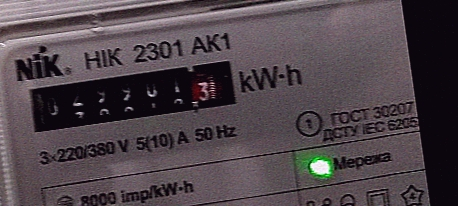0: (142, 74, 160, 100), (43, 94, 62, 117)
1: (167, 71, 183, 96)
2: (67, 88, 86, 109)
3: (195, 78, 211, 102)
9: (118, 79, 135, 103), (93, 83, 108, 106)
screen: (15, 49, 248, 144)
